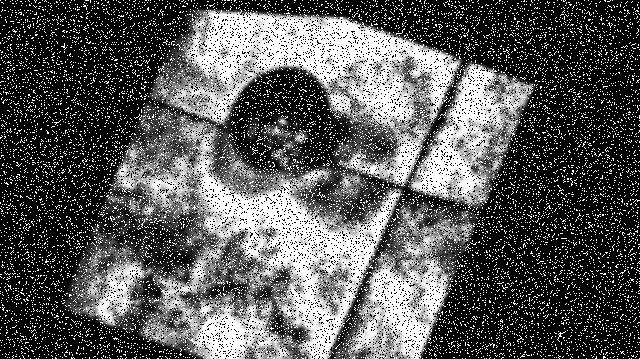pot: (228, 65, 338, 174)
